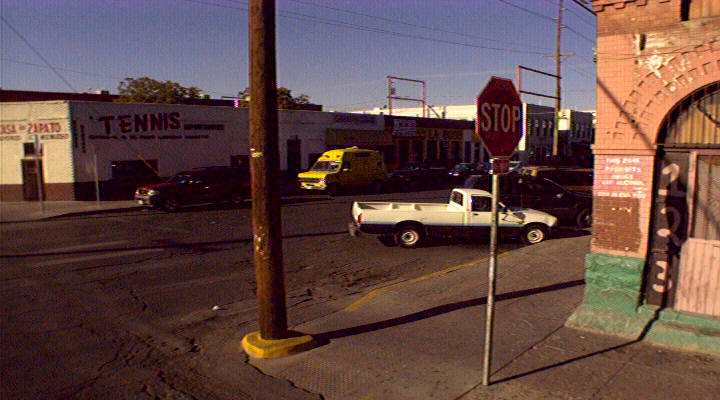Ramp: (248, 339, 441, 400), (286, 282, 382, 336), (1, 205, 60, 226)
